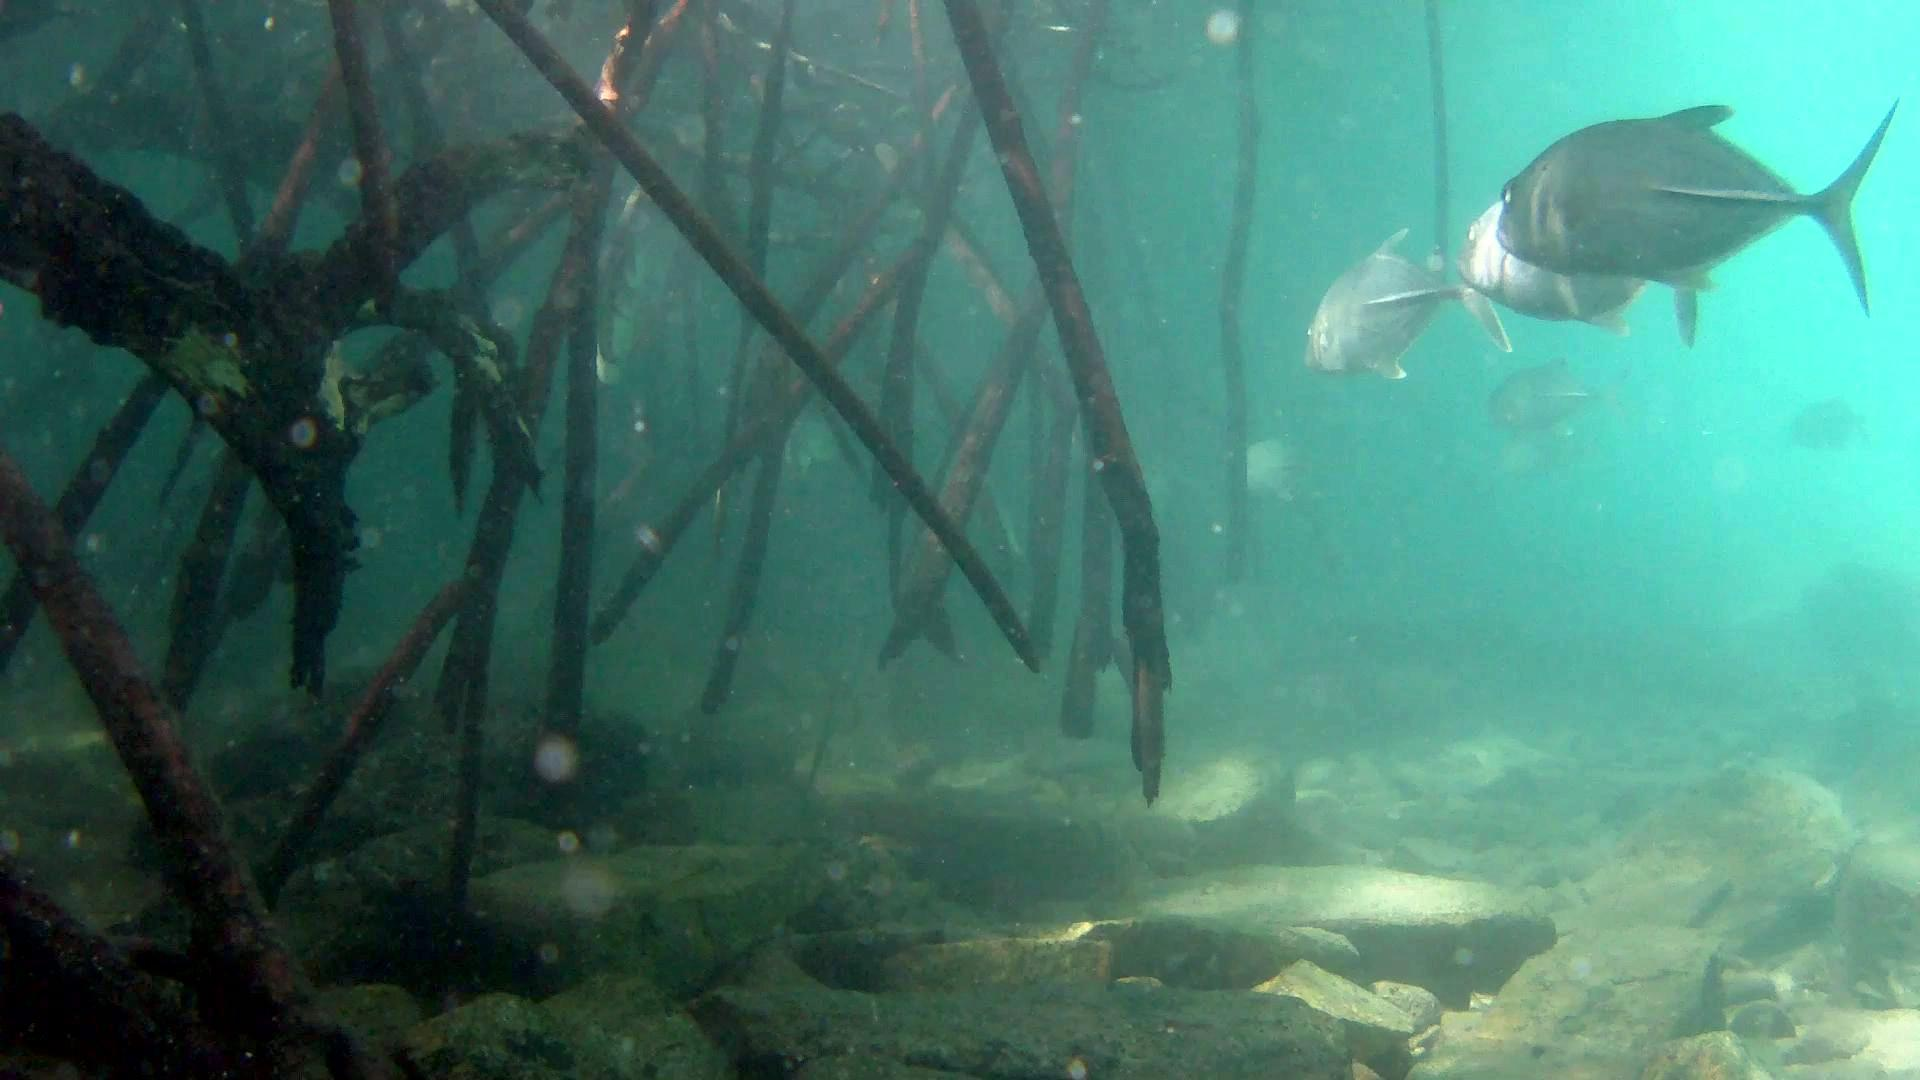caranx: (1485, 86, 1908, 322), (1273, 218, 1510, 388)
